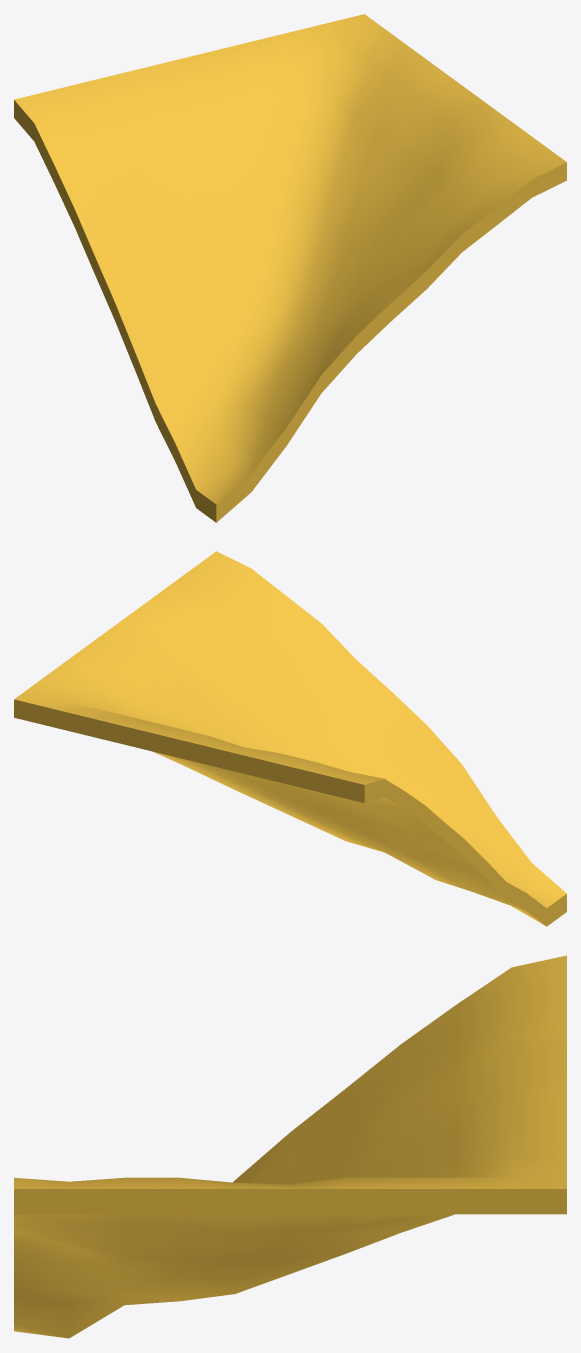
The model's file is Steil - Mitte - Ecke Invertiert a - b.fbx.
3 views of the same model, one above another, from view 1: azimuth 30°, elevation 25°; view 2: azimuth 150°, elevation 25°; view 3: azimuth 270°, elevation 25° (orthographic). The views are drawn at different scales.
Parts seen in each view (by area): view 1: Steil - Mitte - Ecke Invertiert a - b; view 2: Steil - Mitte - Ecke Invertiert a - b; view 3: Steil - Mitte - Ecke Invertiert a - b.
Part boxes in pixels (<box>): Steil - Mitte - Ecke Invertiert a - b: <box>14,14,566,522</box>; Steil - Mitte - Ecke Invertiert a - b: <box>14,551,566,926</box>; Steil - Mitte - Ecke Invertiert a - b: <box>14,955,566,1338</box>.
Size of the model in its own units: 394 by 295 by 394.
